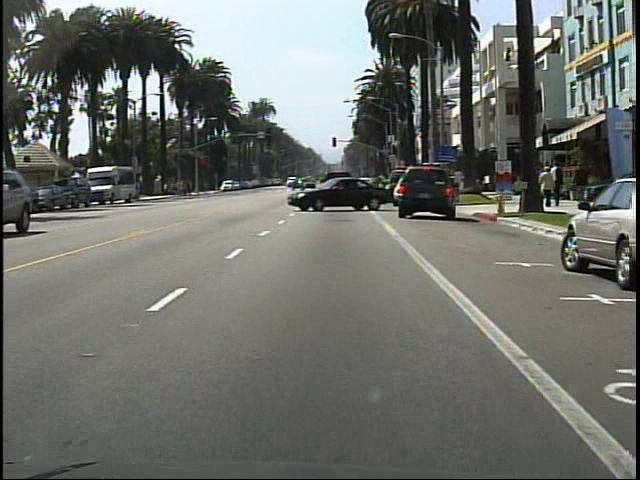person: (571, 155, 593, 208), (550, 160, 567, 210), (374, 169, 392, 208), (540, 164, 554, 211)
